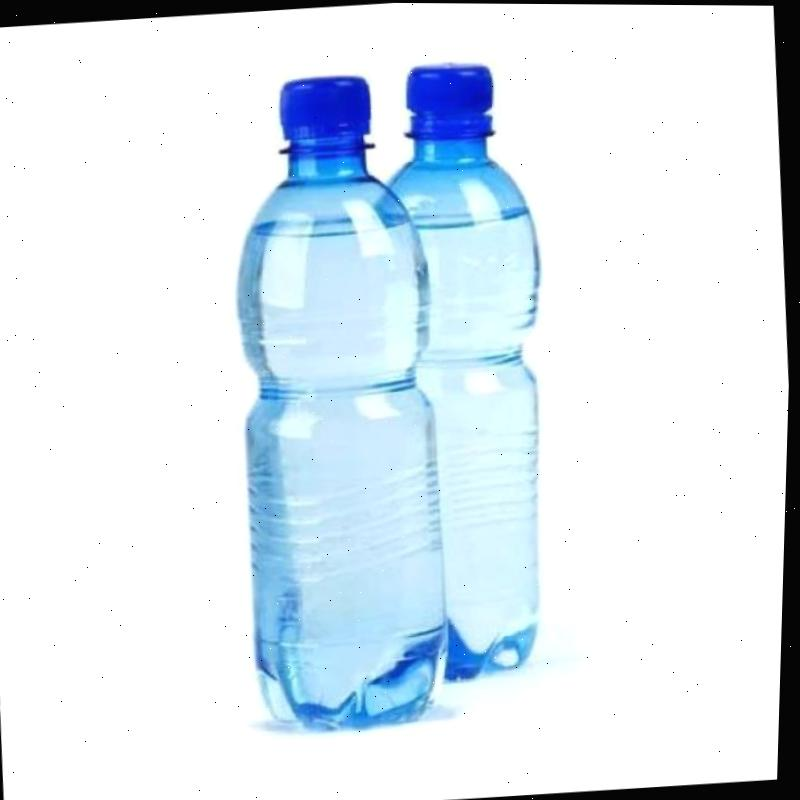botella: (208, 66, 471, 744), (373, 55, 576, 681)
